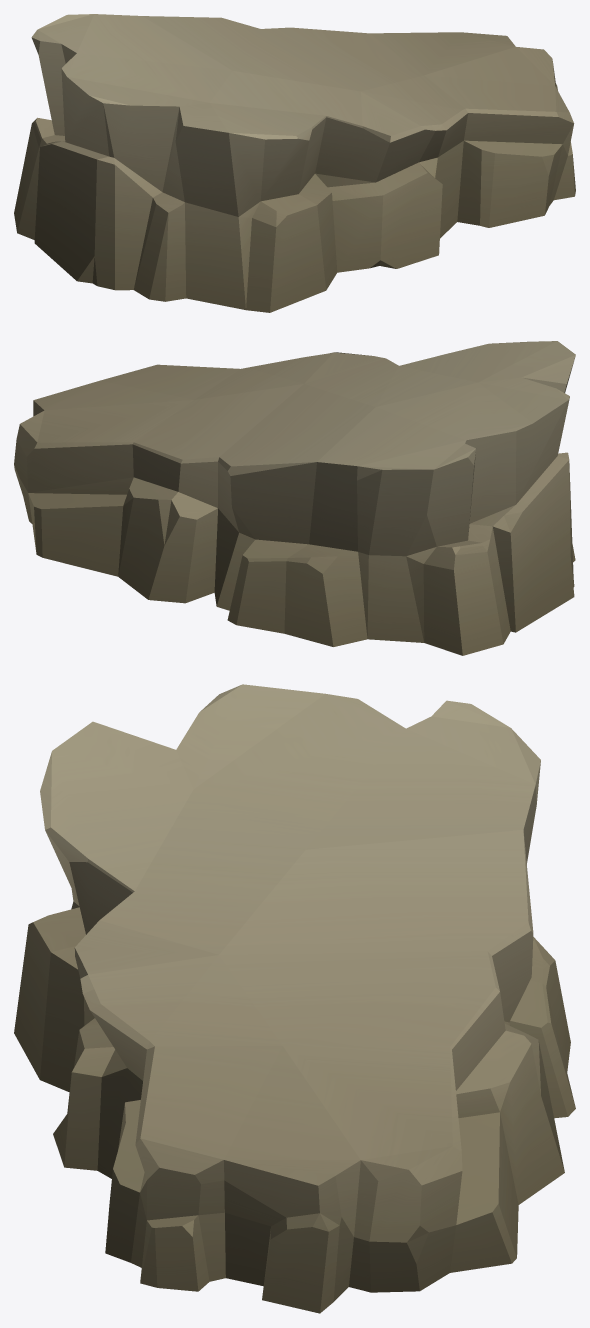
The model's file is Rock_Big_03.fbx.
3 views of the same model, one above another, from view 1: azimuth 30°, elevation 25°; view 2: azimuth 150°, elevation 25°; view 3: azimuth 270°, elevation 25° (orthographic). The views are drawn at different scales.
Visible parts, largest first — view 1: Rock_Big_03; view 2: Rock_Big_03; view 3: Rock_Big_03.
Part boxes in pixels (left/top/right/bottom): Rock_Big_03: left=14, top=14, right=575, bottom=312; Rock_Big_03: left=14, top=341, right=575, bottom=655; Rock_Big_03: left=14, top=684, right=575, bottom=1313.
Bounding box in the file's own units: 5280 × 1873 × 3471.
